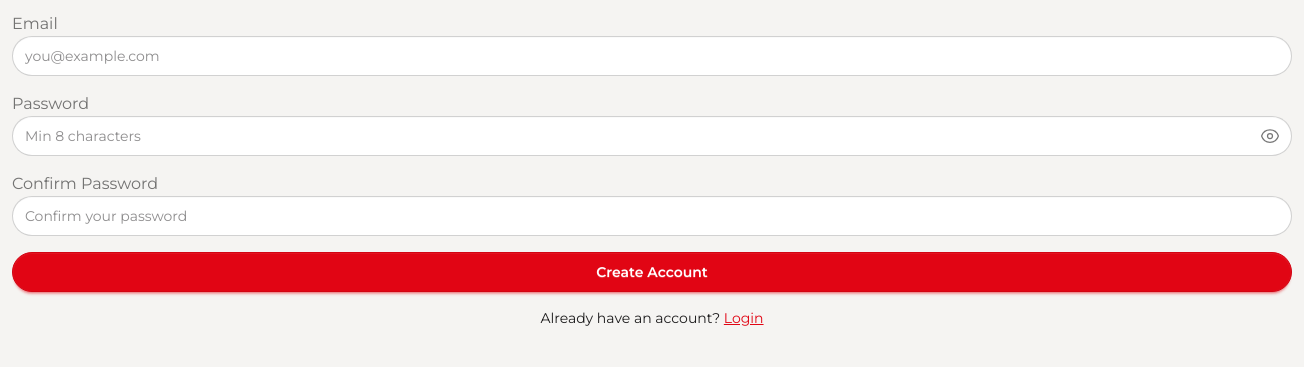
Test case: RegisterForm › should show validation error for invalid email
// Fill all fields with valid data except email format
Type "invalid-email" into the field labelled "Email" at coordinates (652, 56), box [12, 36, 1292, 76]
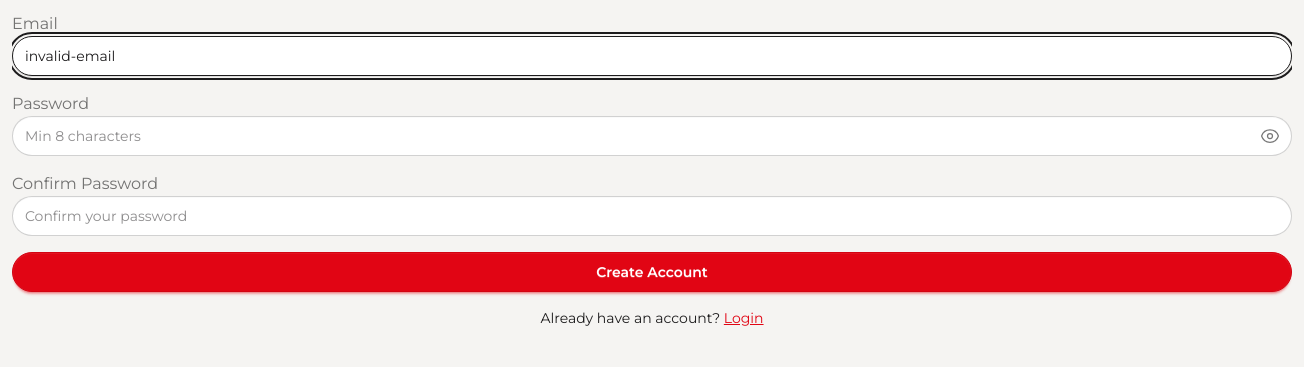
Type "password123" into the password field labelled "Password" at coordinates (652, 136), box [12, 116, 1292, 156]
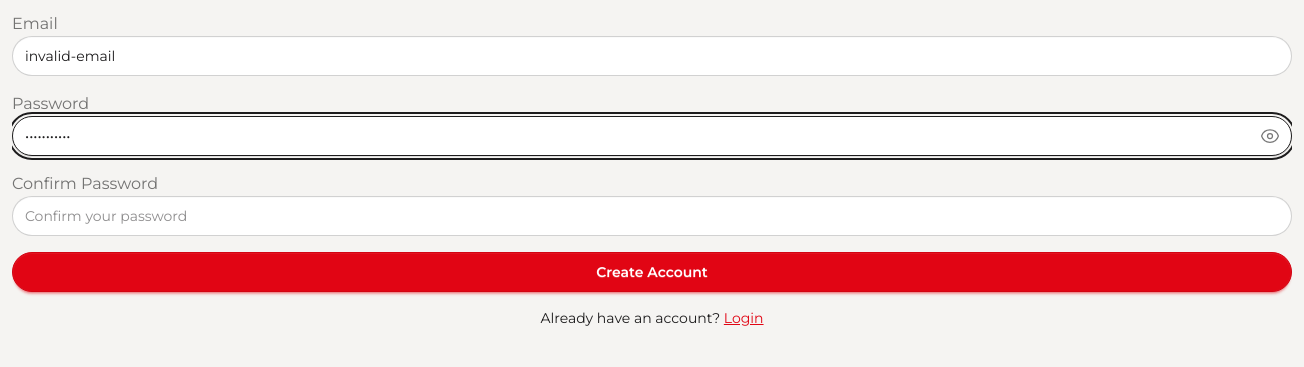
Type "password123" into the password field labelled "Confirm Password" at coordinates (652, 216), box [12, 196, 1292, 236]
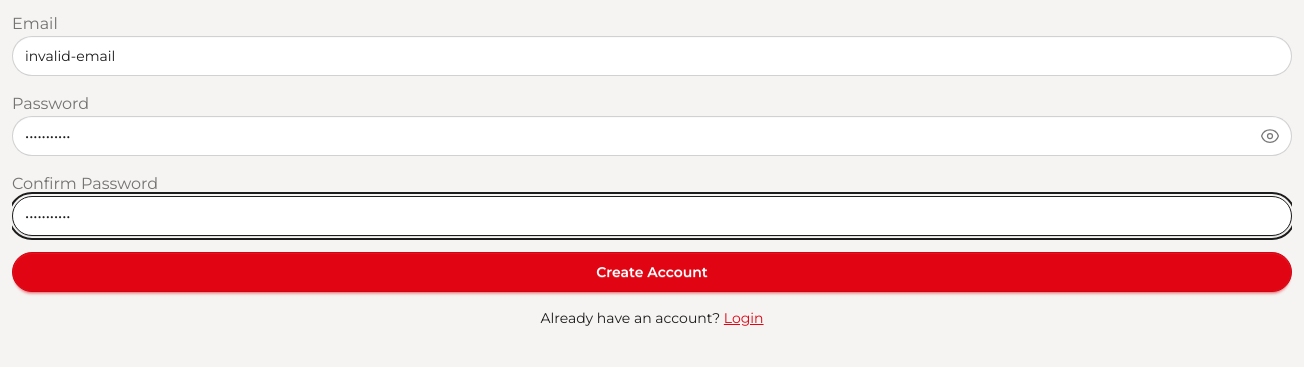
// Blur the email field to trigger validation
Press Tab
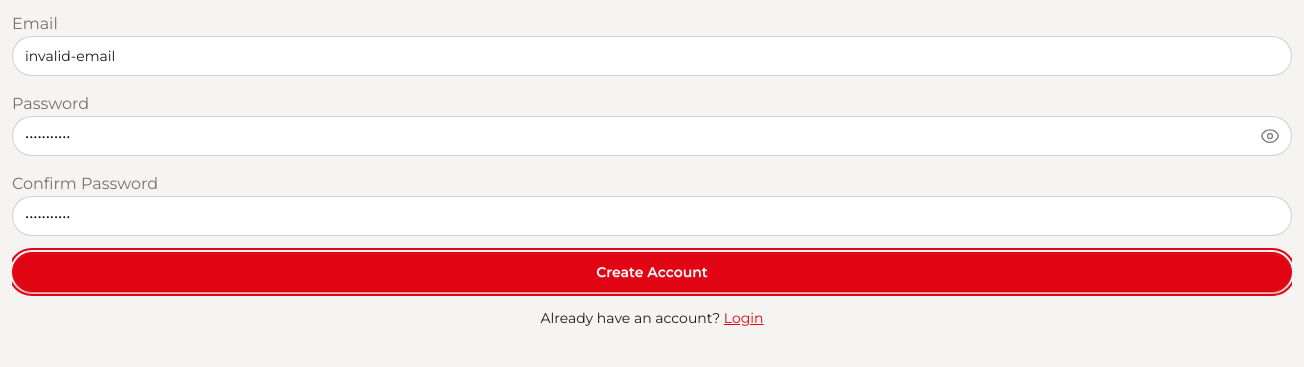
Click the button "Create Account" at coordinates (652, 272), box [12, 252, 1292, 292]
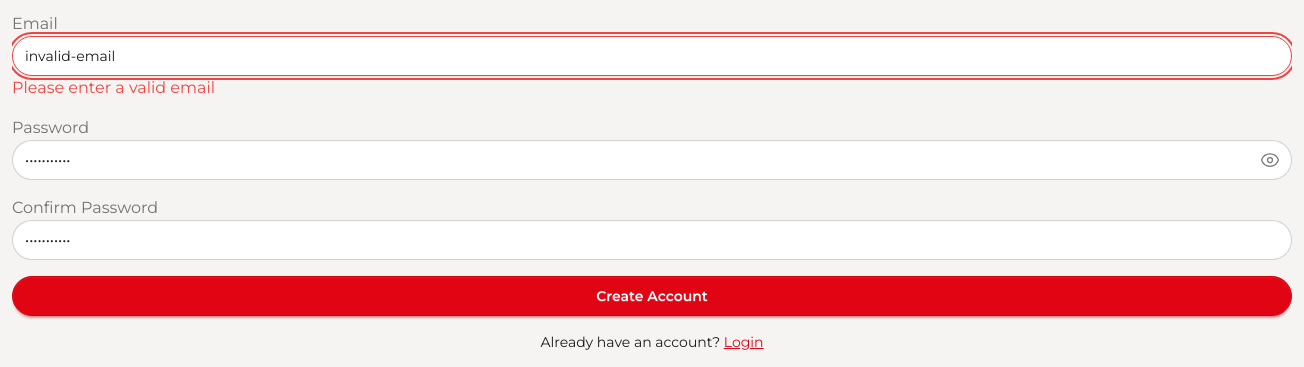
Result: the text "Please enter a valid email" is shown at [12, 76, 215, 100]
